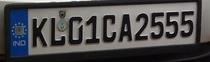0: (67, 15, 83, 44)
1: (84, 14, 100, 42)
2: (134, 11, 148, 40)
5: (149, 10, 165, 38), (164, 10, 179, 38), (179, 9, 194, 37)
A: (118, 12, 133, 41)
C: (101, 12, 116, 43)
K: (30, 16, 47, 46)
L: (49, 16, 65, 46)
